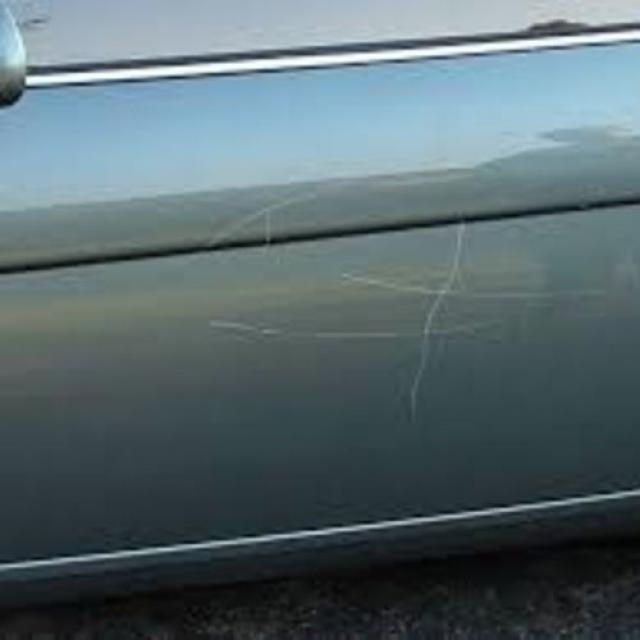scratch: (201, 190, 584, 434)
